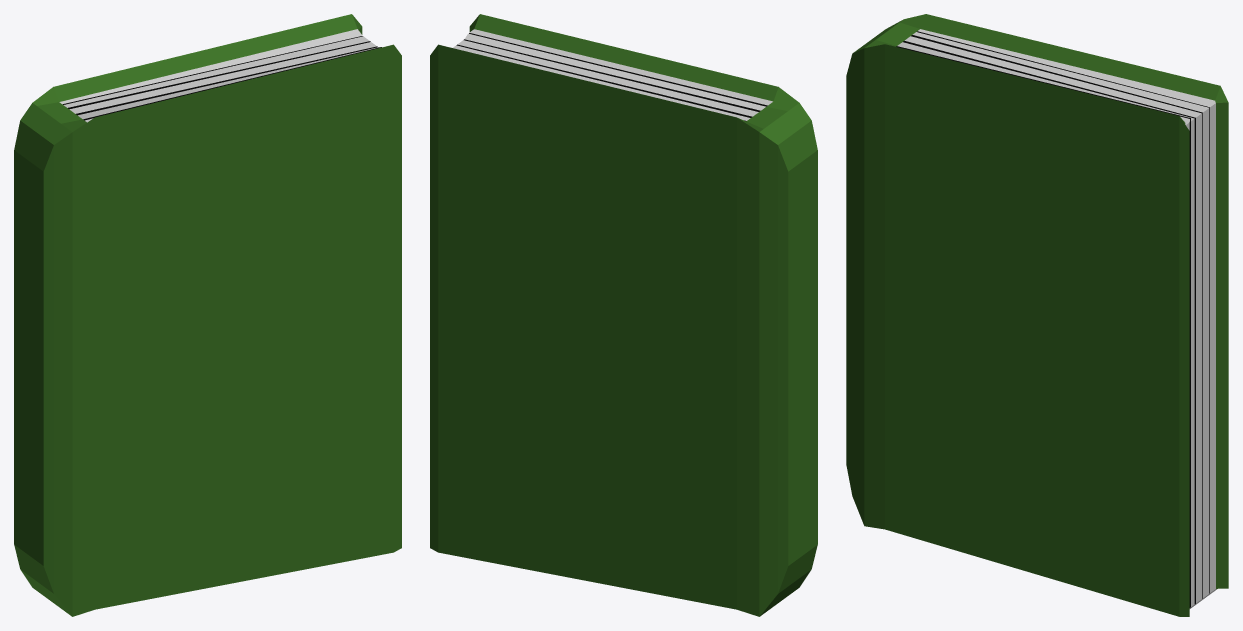
File: buchGrün.fbx
The picture shows the model from 3 angles, left to right: view 1: azimuth 30°, elevation 25°; view 2: azimuth 150°, elevation 25°; view 3: azimuth 330°, elevation 25°; orthographic projection.
Visible parts, largest first — view 1: Cube; view 2: Cube; view 3: Cube.
Part boxes in pixels (box(x1,y1,x2,y2)): Cube: box(14, 14, 401, 616); Cube: box(430, 14, 817, 616); Cube: box(846, 14, 1228, 616).
Bounding box in the file's own units: 14.64 × 20.12 × 3.
